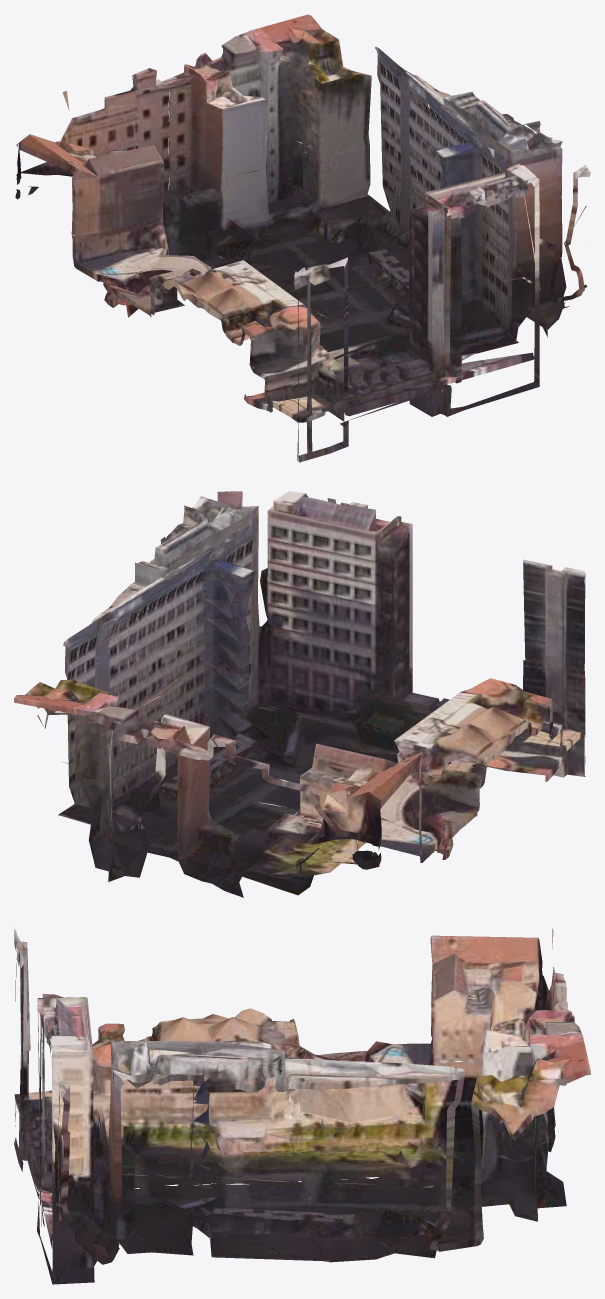
3 views of the same model, one above another, from view 1: azimuth 30°, elevation 25°; view 2: azimuth 150°, elevation 25°; view 3: azimuth 270°, elevation 25° (orthographic). The views are drawn at different scales.
Parts seen in each view (by area): view 1: Mesh_0; view 2: Mesh_0; view 3: Mesh_0.
Part boxes in pixels (x1=…): Mesh_0: x1=15, y1=14, x2=590, y2=462; Mesh_0: x1=14, y1=491, x2=585, y2=897; Mesh_0: x1=14, y1=927, x2=590, y2=1284.
Bounding box in the file's own units: 66.89 × 39.21 × 82.57.
1 material, 1 textured.
